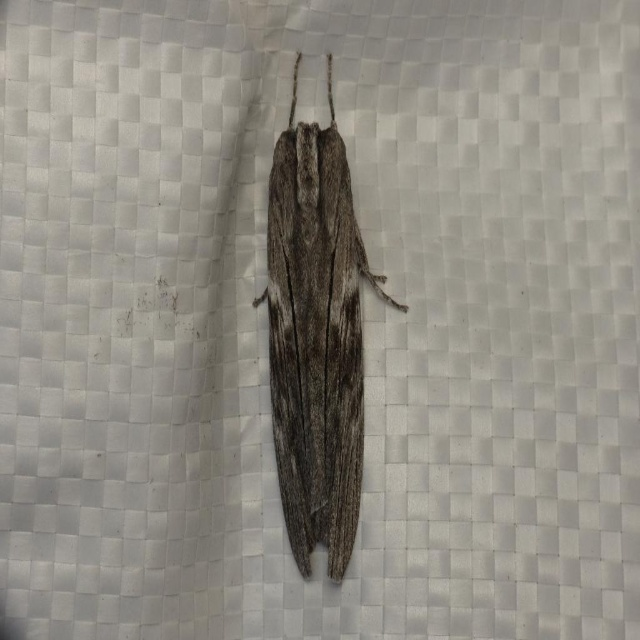Moths and butterflies: (250, 52, 410, 585)
